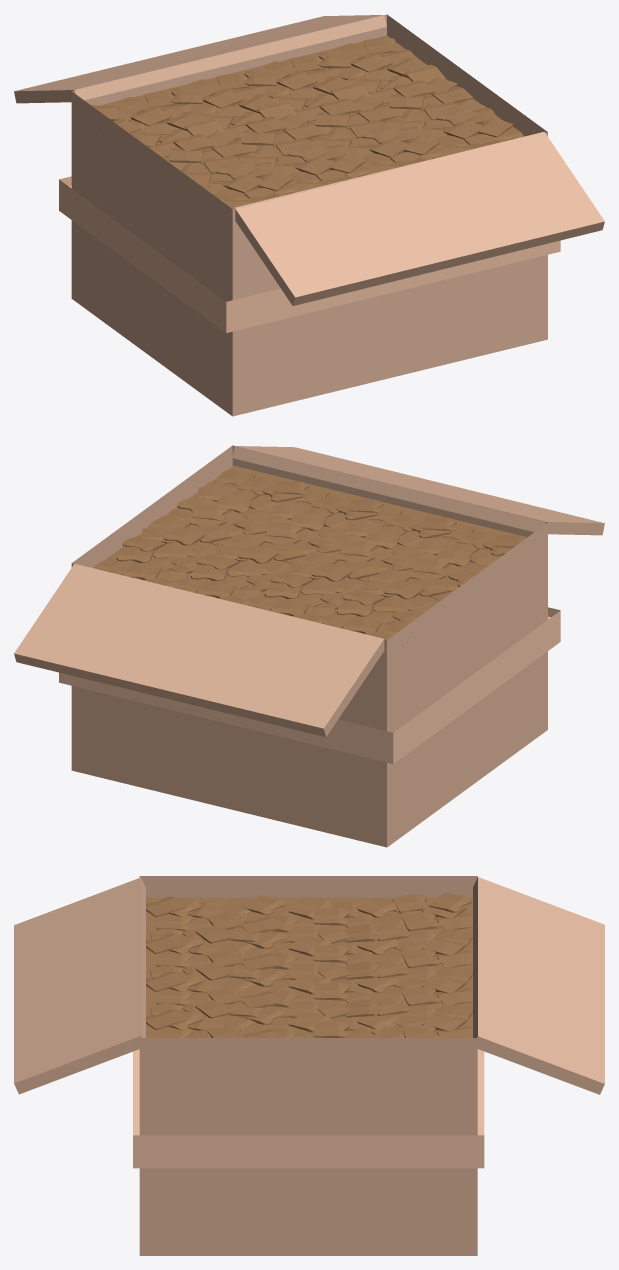
The model's file is ToastBox.fbx.
The picture shows the model from 3 angles, top to bottom: view 1: azimuth 30°, elevation 25°; view 2: azimuth 150°, elevation 25°; view 3: azimuth 270°, elevation 25°; orthographic projection. The views are drawn at different scales.
Parts seen in each view (by area): view 1: Cube, Cube.006, Cube.007, Cube.005, Plane; view 2: Cube, Cube.005, Cube.007, Cube.006, Plane, Cube.081; view 3: Cube, Cube.005, Cube.006, Cube.007, Plane, Cube.081, Cube.142, Cube.057, Cube.096, Cube.127, Cube.072, Cube.147 (+14 smaller).
Part boxes in pixels (box(x1,y1,x2,y2)): Cube: box(71, 14, 547, 416); Cube.006: box(234, 131, 604, 305); Cube.007: box(59, 176, 560, 332); Cube.005: box(14, 15, 386, 103); Plane: box(98, 35, 524, 199); Cube: box(71, 445, 547, 847); Cube.005: box(14, 563, 384, 737); Cube.007: box(59, 607, 560, 764); Cube.006: box(232, 446, 604, 535); Plane: box(105, 465, 526, 633); Cube.081: box(311, 563, 353, 581); Cube: box(139, 876, 477, 1255); Cube.005: box(473, 877, 604, 1094); Cube.006: box(14, 877, 145, 1094); Cube.007: box(133, 1049, 484, 1168); Plane: box(146, 897, 472, 1037); Cube.081: box(314, 945, 349, 962); Cube.142: box(314, 908, 349, 925); Cube.057: box(402, 987, 441, 1005); Cube.096: box(402, 949, 441, 968); Cube.127: box(402, 912, 441, 931); Cube.072: box(314, 983, 349, 1000); Cube.147: box(428, 893, 471, 912).
Bounding box in the file's own units: 337 × 201 × 491.
